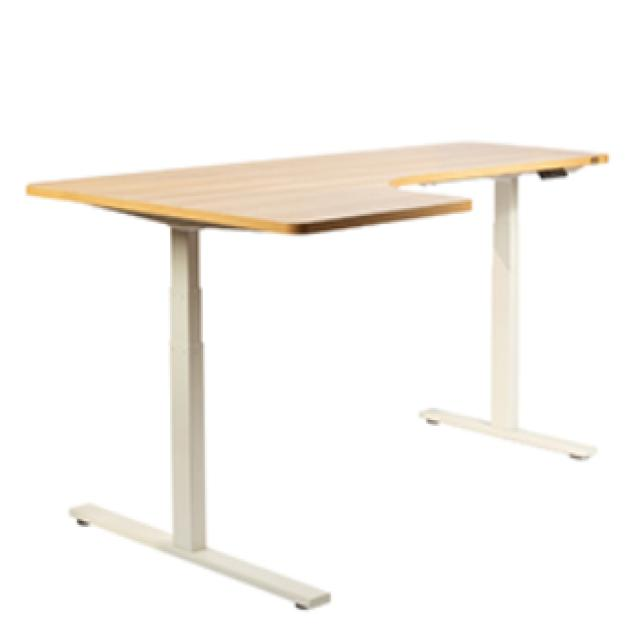table: (15, 125, 620, 618)
